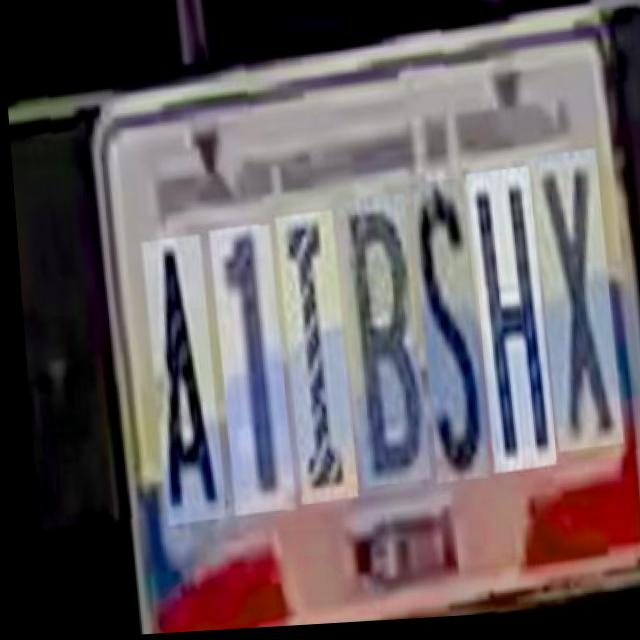1: (204, 230, 286, 522)
a: (135, 240, 217, 529)
b: (331, 203, 422, 496)
h: (462, 177, 547, 483)
i: (270, 218, 349, 511)
s: (405, 189, 480, 493)
x: (527, 161, 614, 464)
